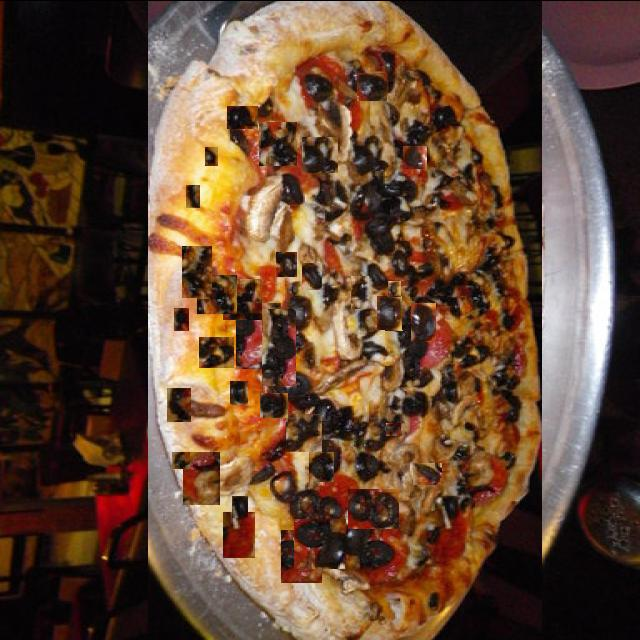olive: (270, 174, 338, 254), (262, 308, 296, 385), (294, 518, 346, 568), (322, 398, 376, 446), (348, 488, 399, 528), (371, 370, 421, 410), (259, 121, 297, 165), (197, 272, 237, 312), (223, 278, 262, 319), (182, 245, 212, 297), (286, 413, 322, 451), (302, 136, 338, 172), (200, 336, 236, 367), (348, 438, 376, 474), (411, 302, 436, 341), (378, 295, 403, 329), (392, 470, 420, 500), (357, 72, 387, 100), (167, 387, 191, 421), (384, 173, 410, 203), (309, 451, 334, 481), (227, 105, 258, 128), (322, 58, 344, 90), (260, 391, 288, 416), (413, 462, 442, 484), (168, 367, 198, 388), (403, 437, 429, 461), (351, 275, 369, 308), (295, 49, 308, 92), (403, 145, 427, 168), (302, 262, 322, 289), (276, 251, 297, 276), (230, 379, 248, 404), (385, 328, 403, 352), (232, 495, 248, 517), (174, 307, 189, 330), (172, 451, 190, 468), (187, 184, 200, 207), (205, 146, 218, 165), (388, 280, 401, 296), (386, 422, 401, 435)
pepperoni: (332, 472, 383, 564), (236, 302, 281, 368), (376, 136, 427, 189), (281, 529, 322, 582), (184, 451, 222, 504), (223, 511, 255, 557)
pizza: (148, 0, 542, 639)
